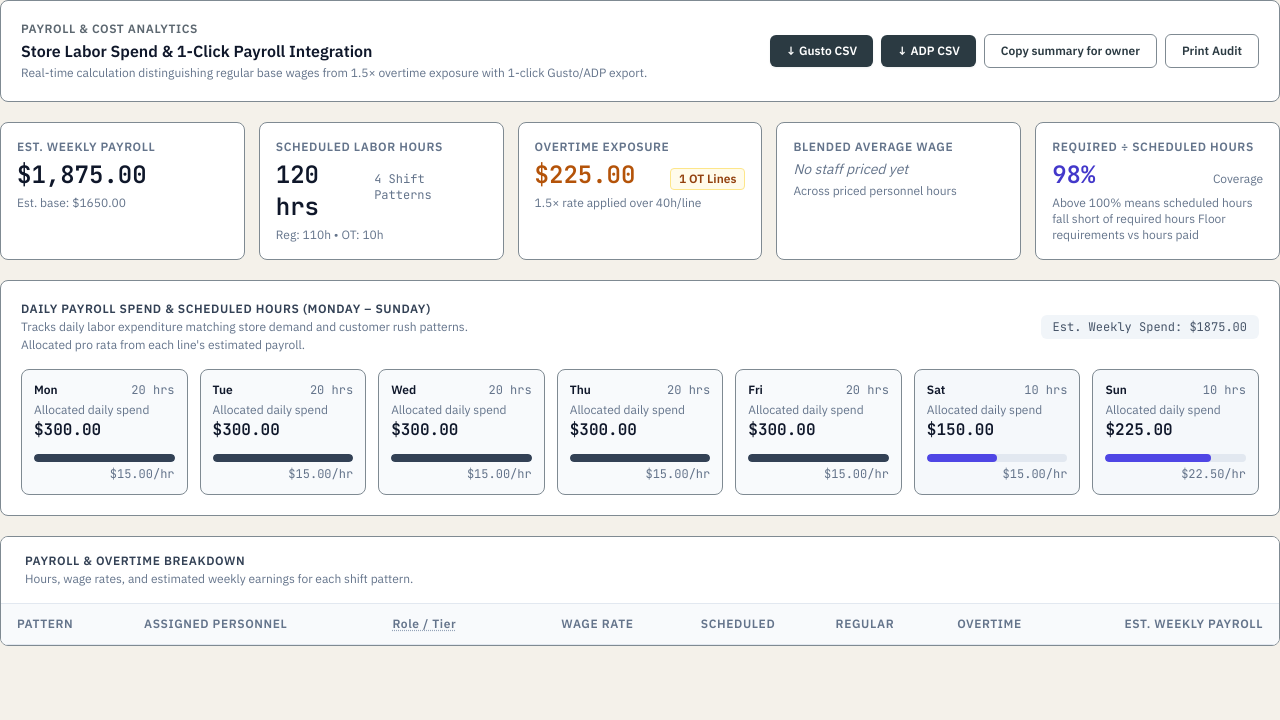
it: sharing the labor summary with the owner › copies a plain-text summary with the key payroll numbers already on screen
The image size is (1280, 720).
Click the button "Copy summary for owner".
click(1070, 51)  # box left=984, top=34, right=1157, bottom=68
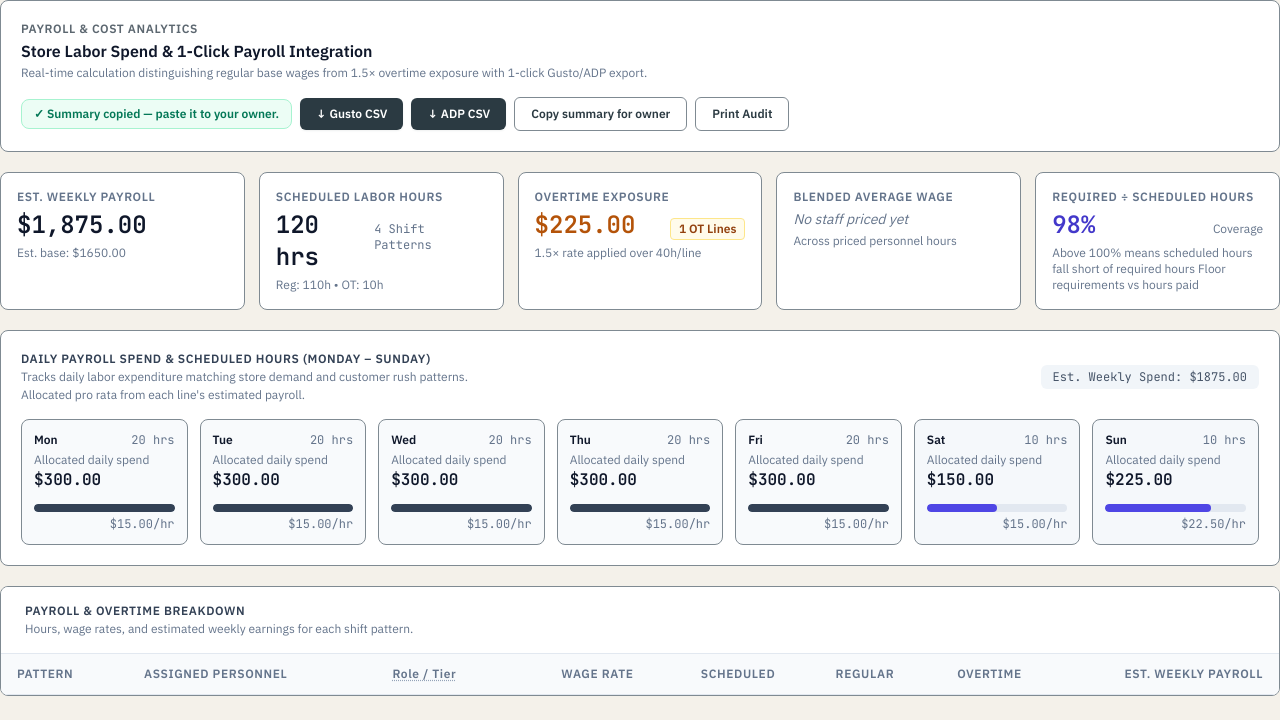
Expected: the text "✓ Summary copied — paste it to your owner." is shown, left=21, top=99, right=292, bottom=129
